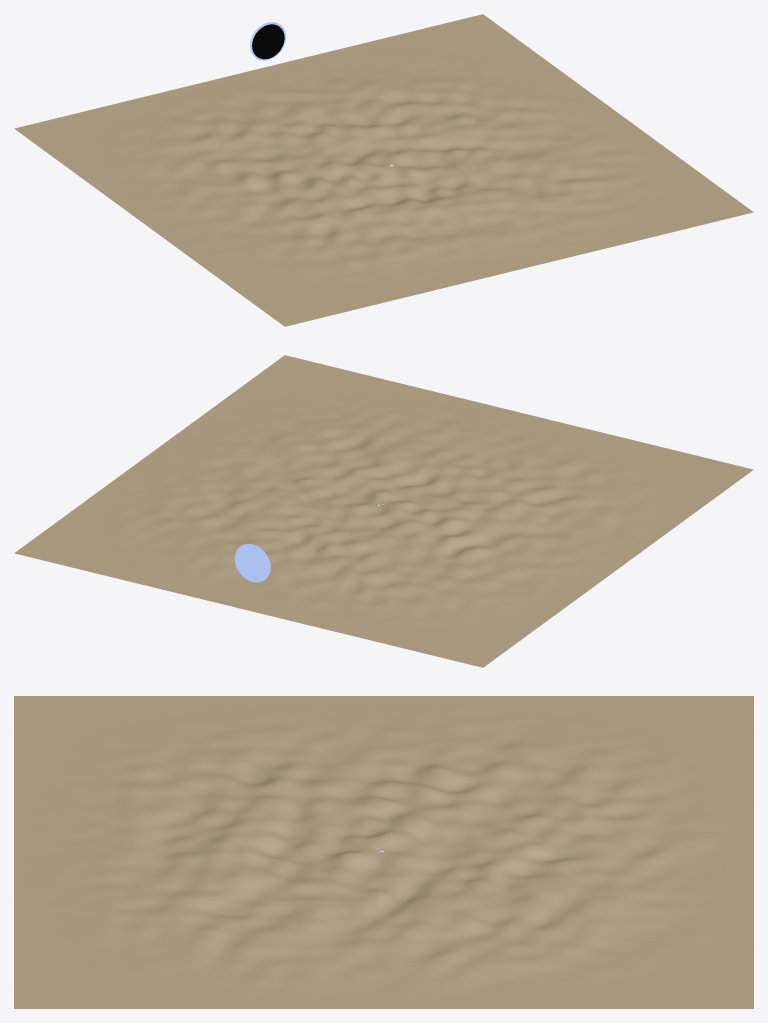
Rendered from desert.glb.
3 renders of one model, top to bottom at view 1: azimuth 30°, elevation 25°; view 2: azimuth 150°, elevation 25°; view 3: azimuth 270°, elevation 25°, orthographic. The views are drawn at different scales.
Visible parts, largest first — view 1: Desert, blacksun; view 2: Desert, whitesun; view 3: Desert.
Boxes of the visible parts, <box> form: Desert: <box>14,14,753,326</box>; blacksun: <box>252,24,284,59</box>; Desert: <box>14,355,753,667</box>; whitesun: <box>234,544,270,582</box>; Desert: <box>14,696,753,1008</box>.
Bounding box in the file's own units: 107 × 12.47 × 107.
Materials: 5 (1 with a texture image).
